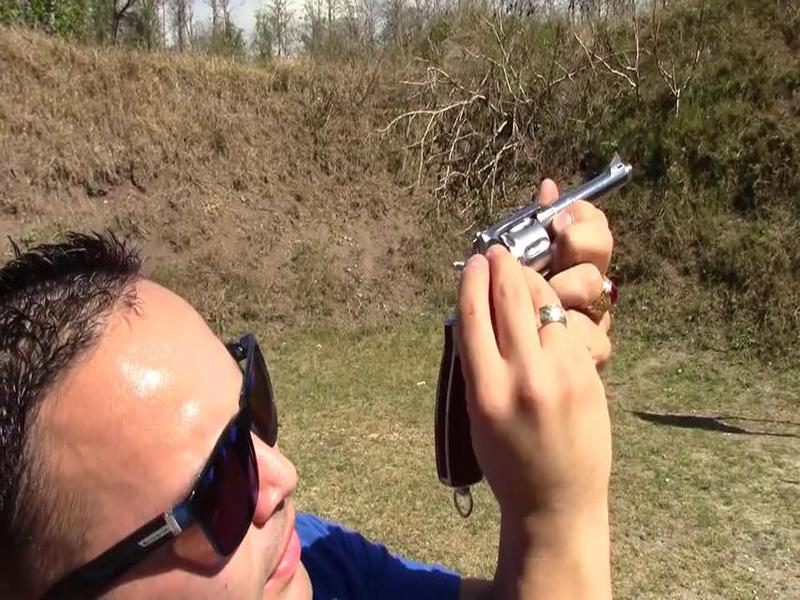Revolver: (399, 149, 640, 509)
